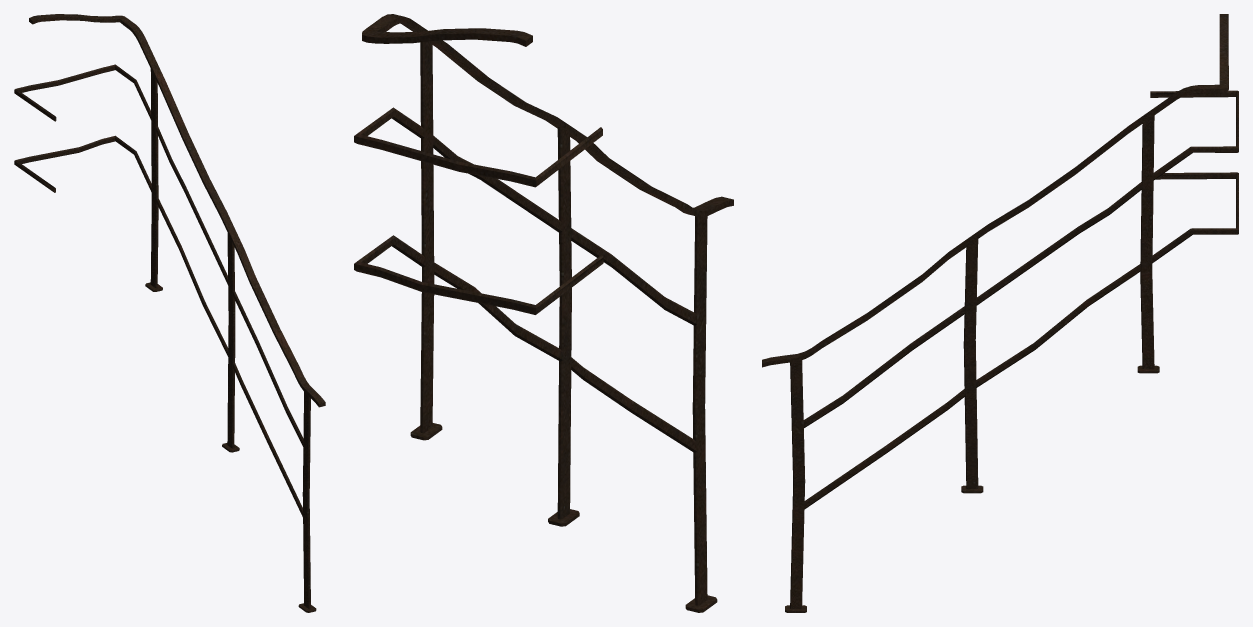
The model's file is hand_rail_2.dae.
The picture shows the model from 3 angles, left to right: view 1: azimuth 30°, elevation 25°; view 2: azimuth 150°, elevation 25°; view 3: azimuth 270°, elevation 25°; orthographic projection. The views are drawn at different scales.
Parts seen in each view (by area): view 1: hand_rail_2; view 2: hand_rail_2; view 3: hand_rail_2.
Boxes of the visible parts, x1,y1,x2,y2 form: hand_rail_2: (14, 14, 325, 612); hand_rail_2: (354, 14, 733, 612); hand_rail_2: (762, 14, 1238, 612).
Size of the model in its own units: 0.6361 by 2.16 by 2.74.
1 material, 1 textured.
